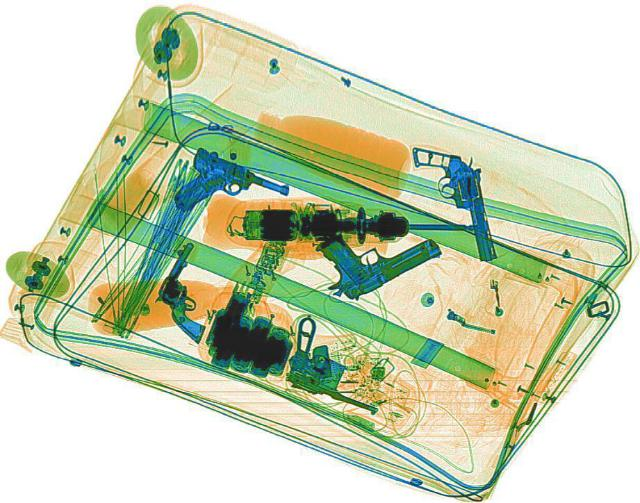Gun: (259, 312, 415, 415), (298, 203, 446, 302), (159, 146, 295, 236), (410, 139, 500, 264), (136, 241, 247, 342)
